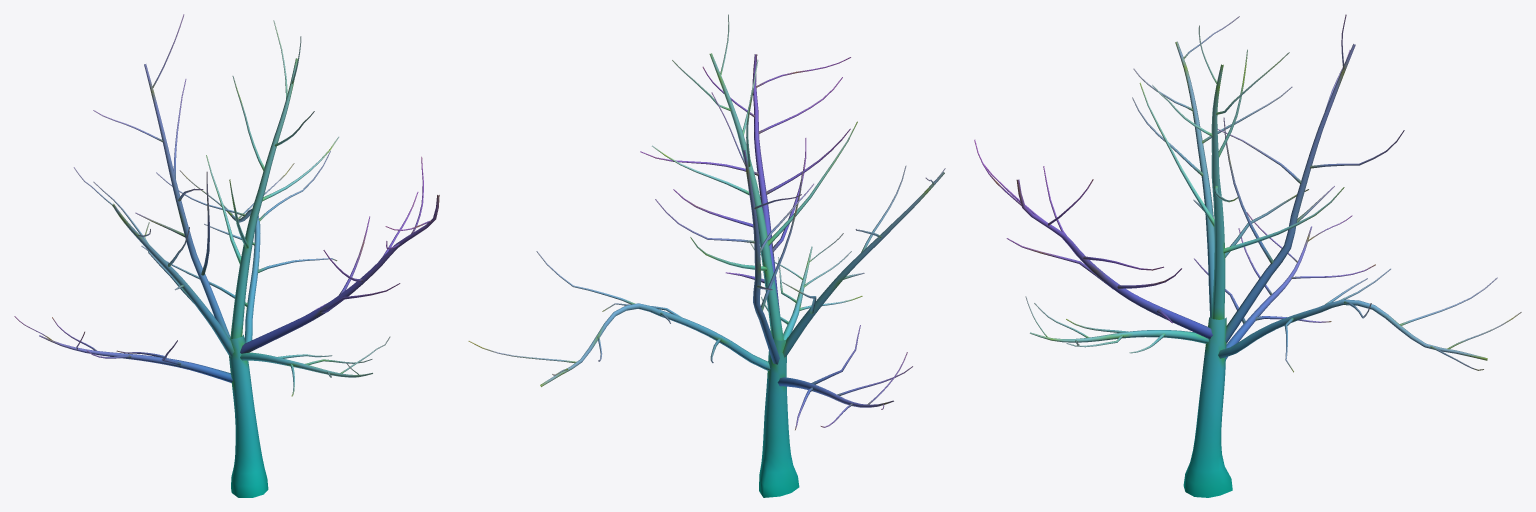
The model's file is maple-grove-a.glb.
3 views of the same model, side by side, from view 1: azimuth 30°, elevation 25°; view 2: azimuth 150°, elevation 25°; view 3: azimuth 270°, elevation 25° (orthographic). The views are drawn at different scales.
Parts seen in each view (by area): view 1: bark; view 2: bark; view 3: bark.
Boxes of the visible parts, x1,y1,x2,y2 form: bark: (14,14,439,497); bark: (468,14,945,497); bark: (974,14,1521,497).
Bounding box in the file's own units: 11.18 × 13.98 × 14.11.
